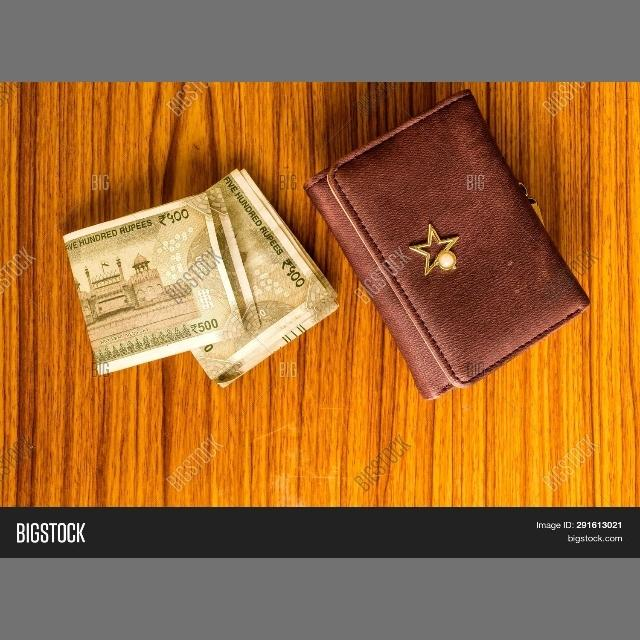Wallet: (292, 106, 598, 402)
